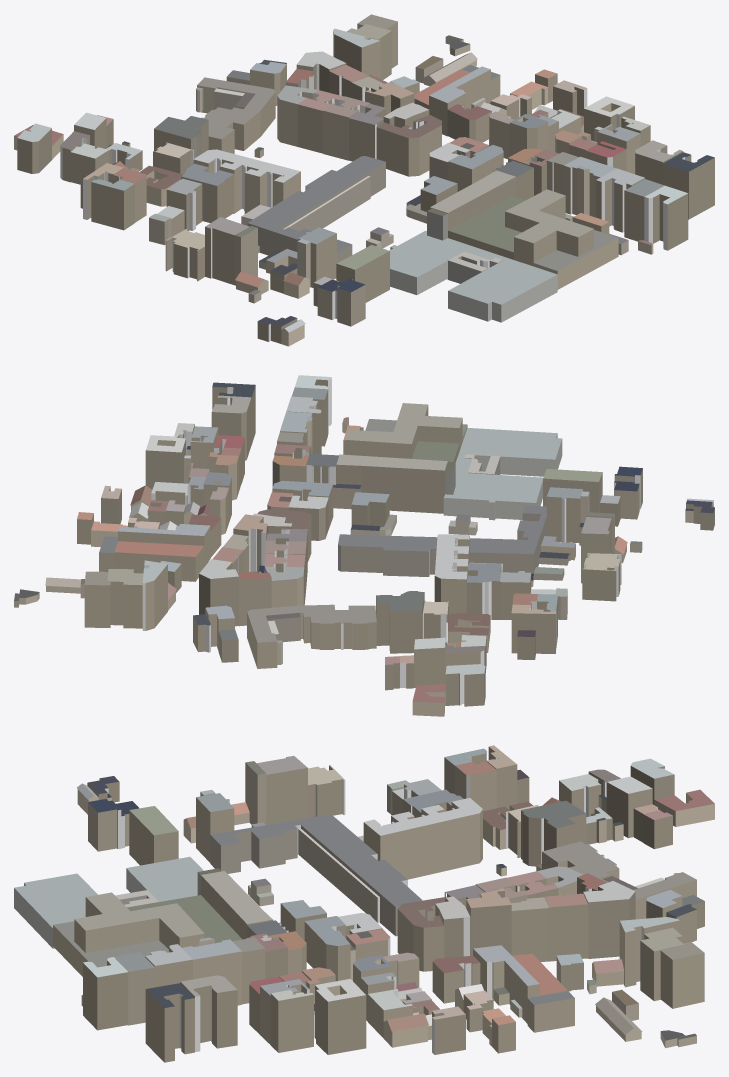
The picture shows the model from 3 angles, top to bottom: view 1: azimuth 30°, elevation 25°; view 2: azimuth 150°, elevation 25°; view 3: azimuth 270°, elevation 25°; orthographic projection. The views are drawn at different scales.
Visible parts, largest first — view 1: tuile; view 2: tuile; view 3: tuile.
Part boxes in pixels (x1=…): tuile: x1=14, y1=14, x2=714, y2=346; tuile: x1=14, y1=375, x2=714, y2=716; tuile: x1=14, y1=745, x2=714, y2=1062.
Bounding box in the file's own units: 267 × 29.7 × 291.
